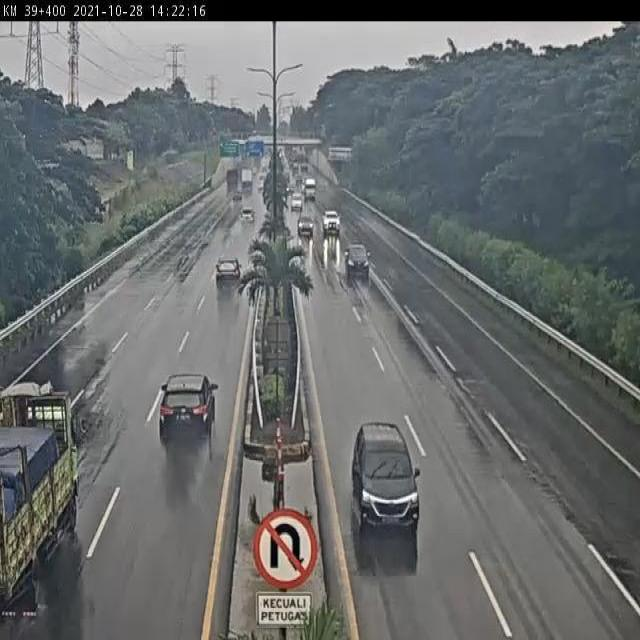car: (351, 421, 422, 540), (159, 373, 218, 444), (344, 243, 372, 277), (214, 256, 242, 288), (322, 209, 341, 235), (296, 210, 314, 234), (238, 206, 257, 226)
truck-l-: (0, 385, 84, 619)
